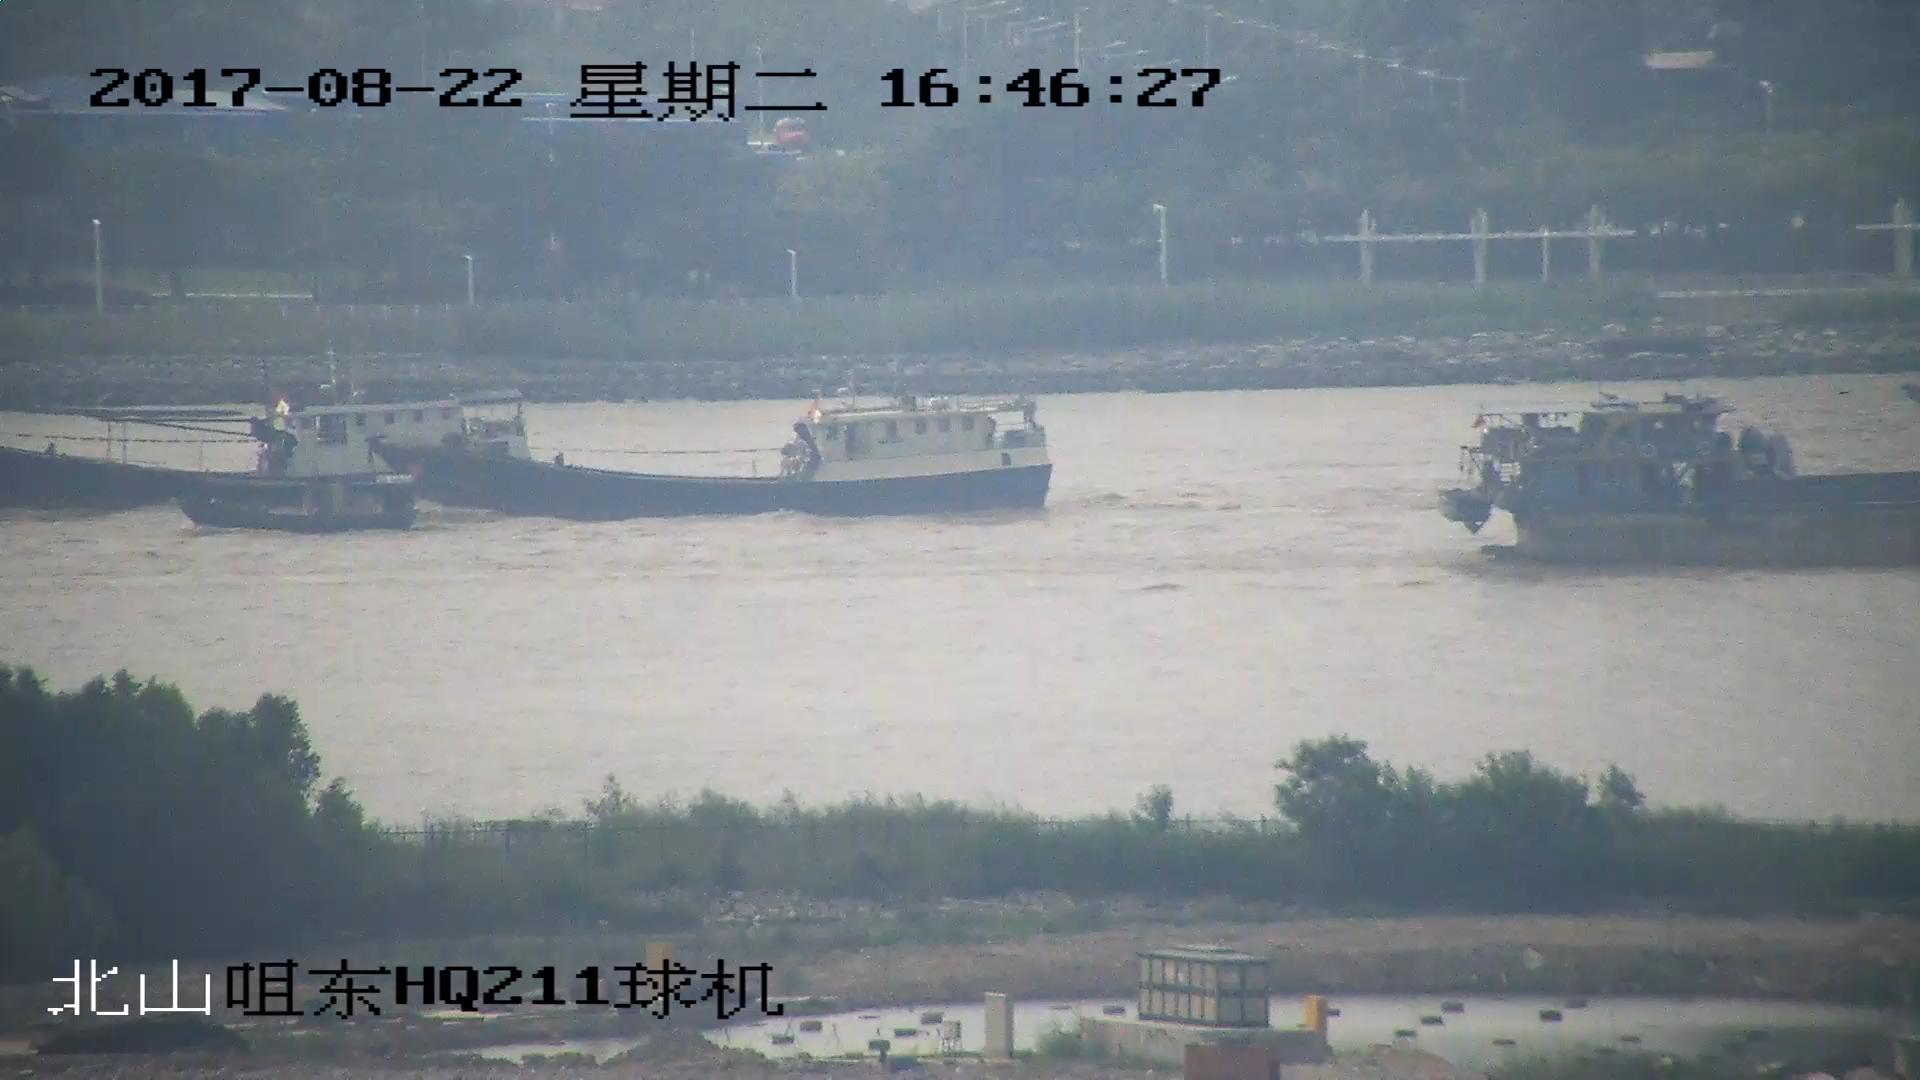Ship: (375, 392, 1054, 524), (1456, 404, 1920, 567), (3, 390, 531, 506), (179, 472, 426, 527)
